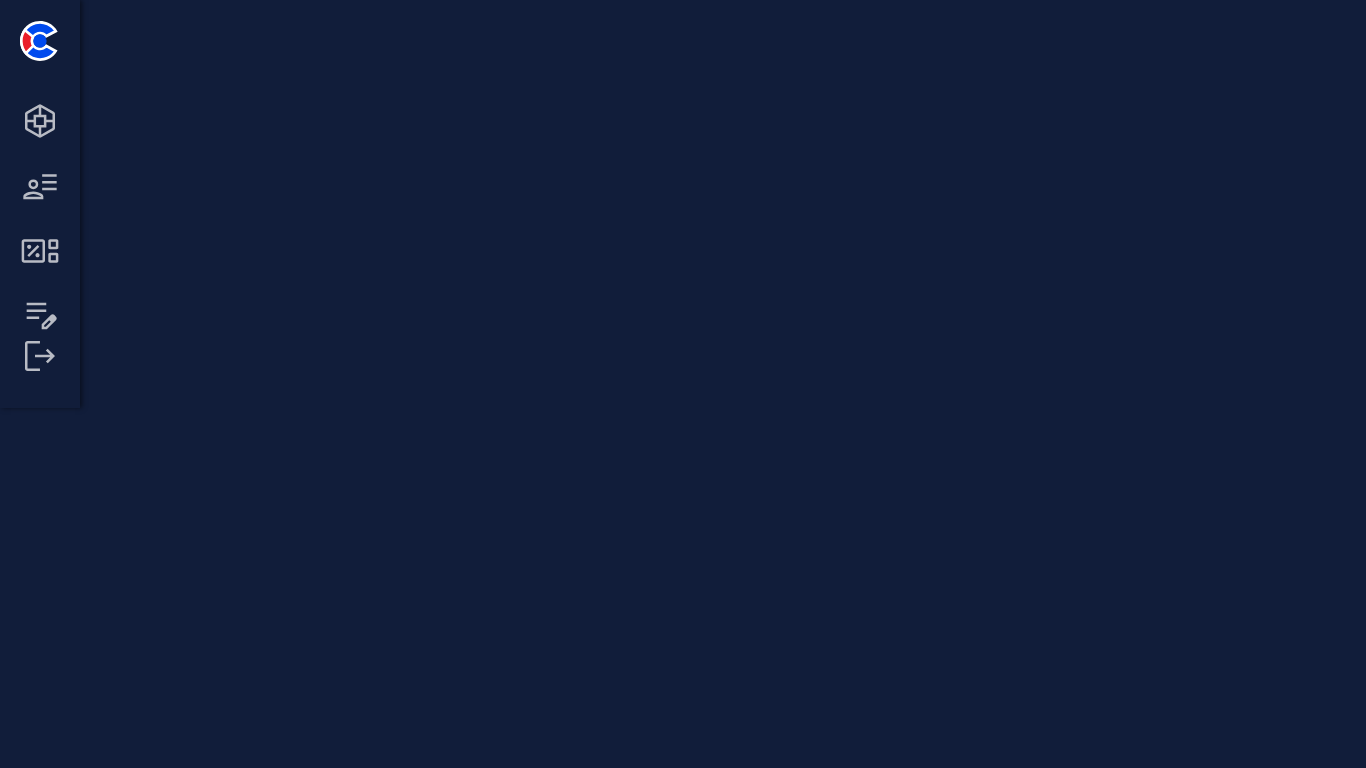
Test: GlobalNav › shows notes icon for mayors and opens the notes modal
# clicking should open the modal and fetch notes
Click the button titled "Notes" at [40, 316], box [20, 296, 60, 336]
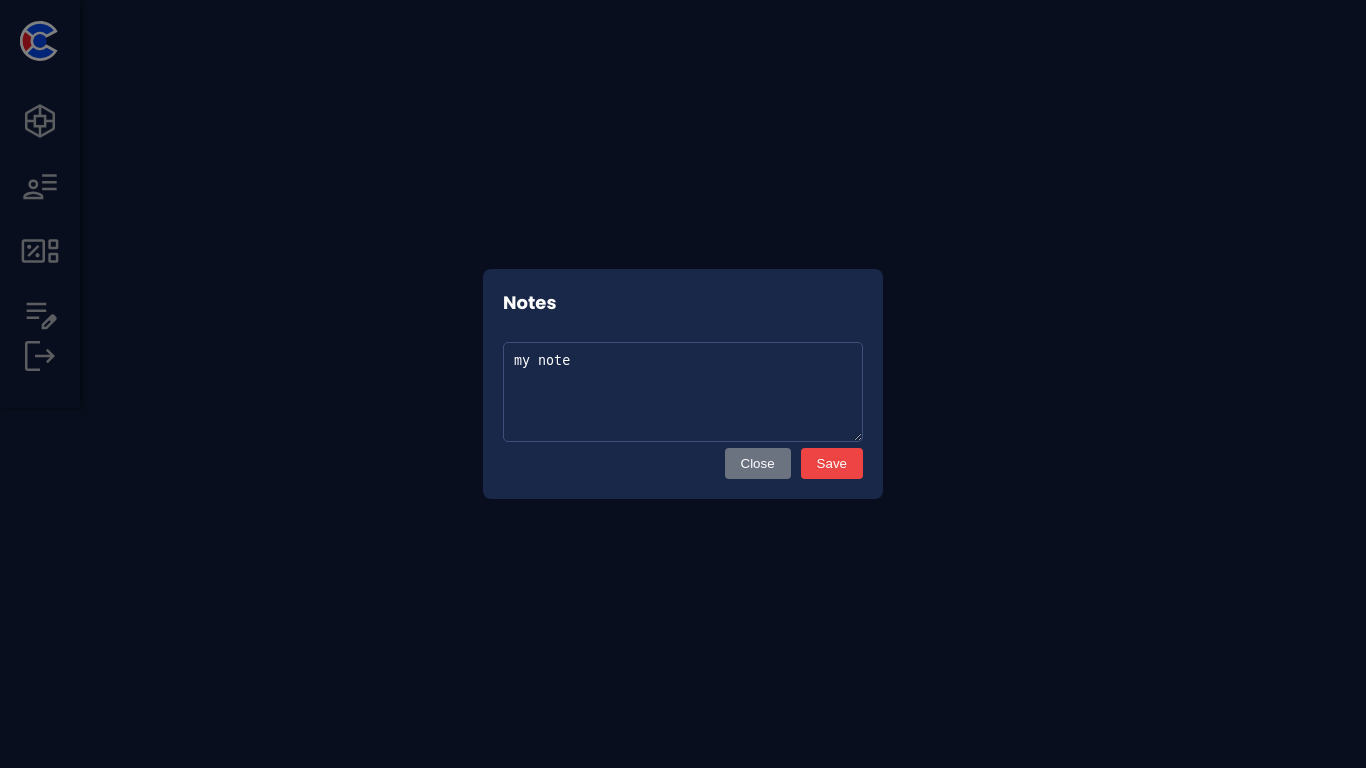
Result: the text box with placeholder "Enter your notes here..." is shown at [503, 342, 863, 442]
